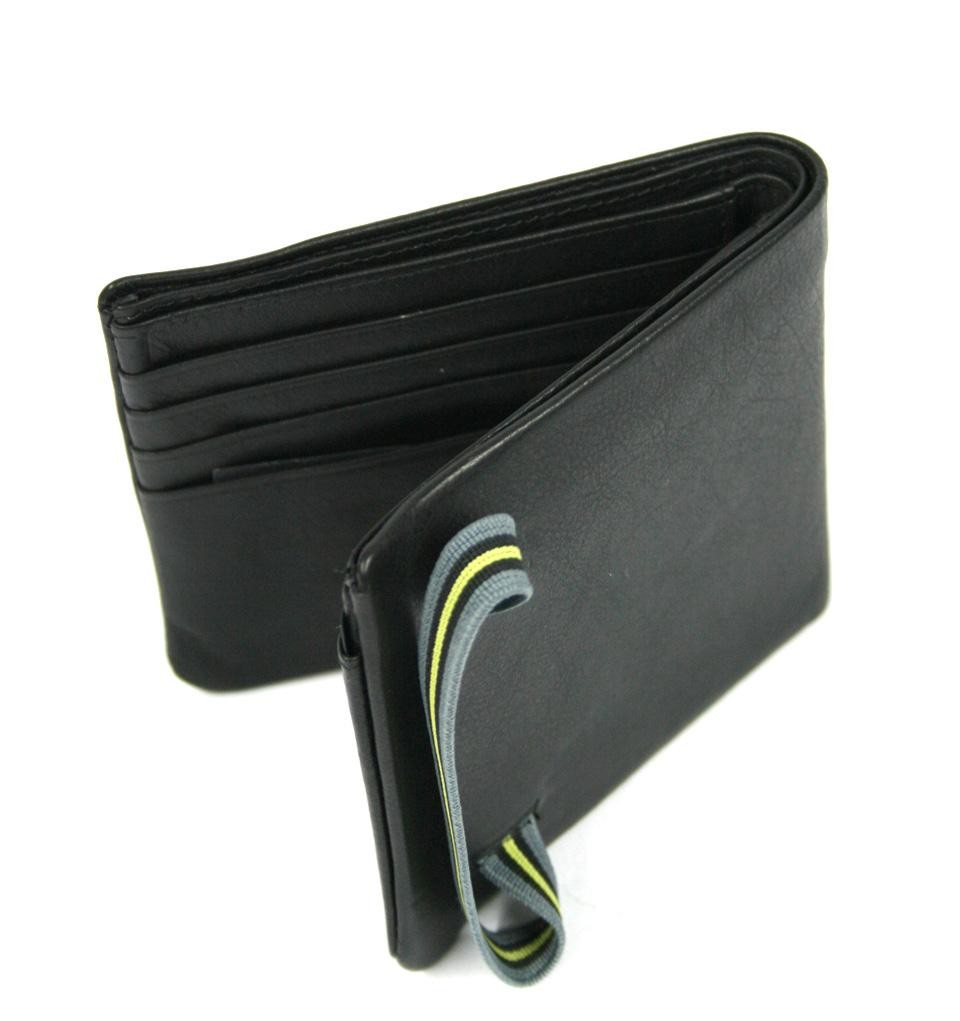monedero: (96, 132, 833, 987)
